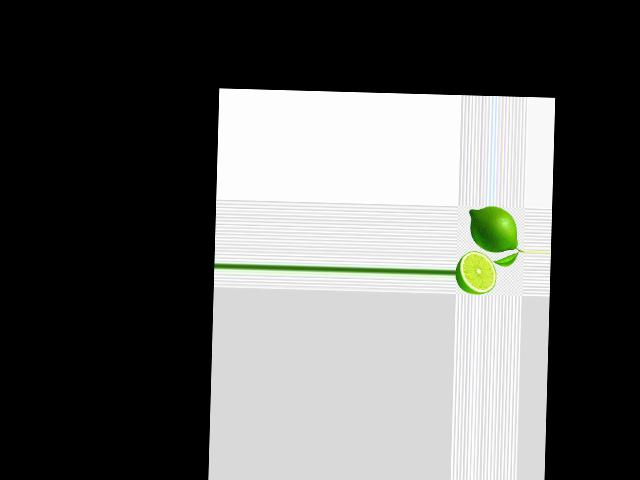lemon: (466, 206, 519, 260)
